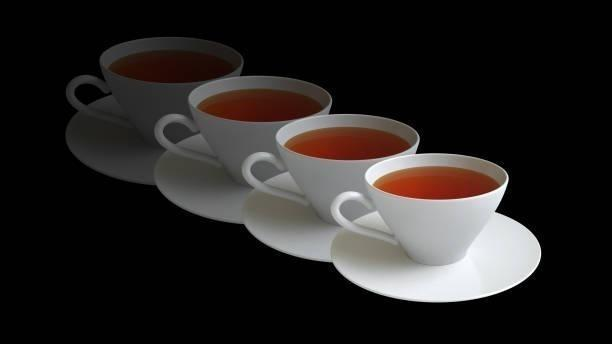cup-handle: (152, 74, 334, 189), (329, 151, 509, 267), (239, 112, 422, 226), (65, 35, 245, 150)
